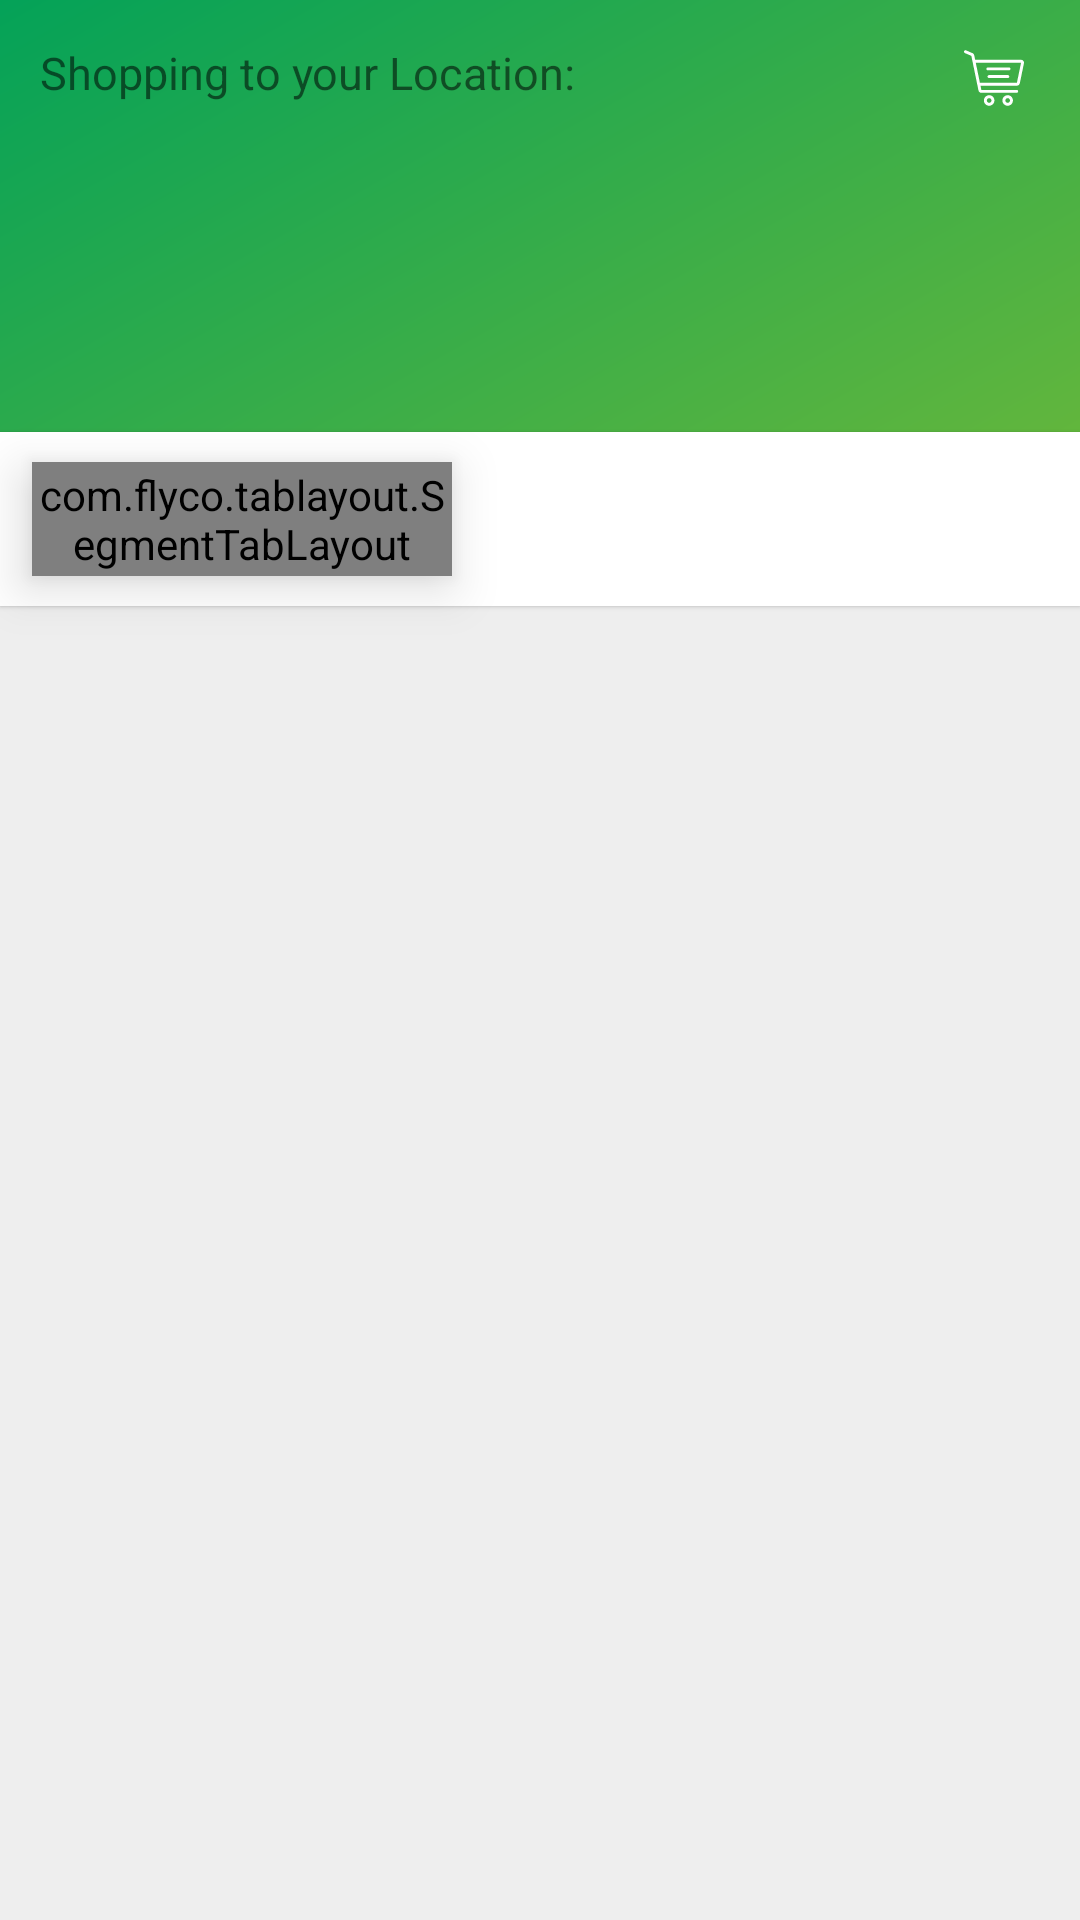

Screen size 1080x1920. Icon name, then its center in pixels as [x,y]:
shopping cart: [994,78]
